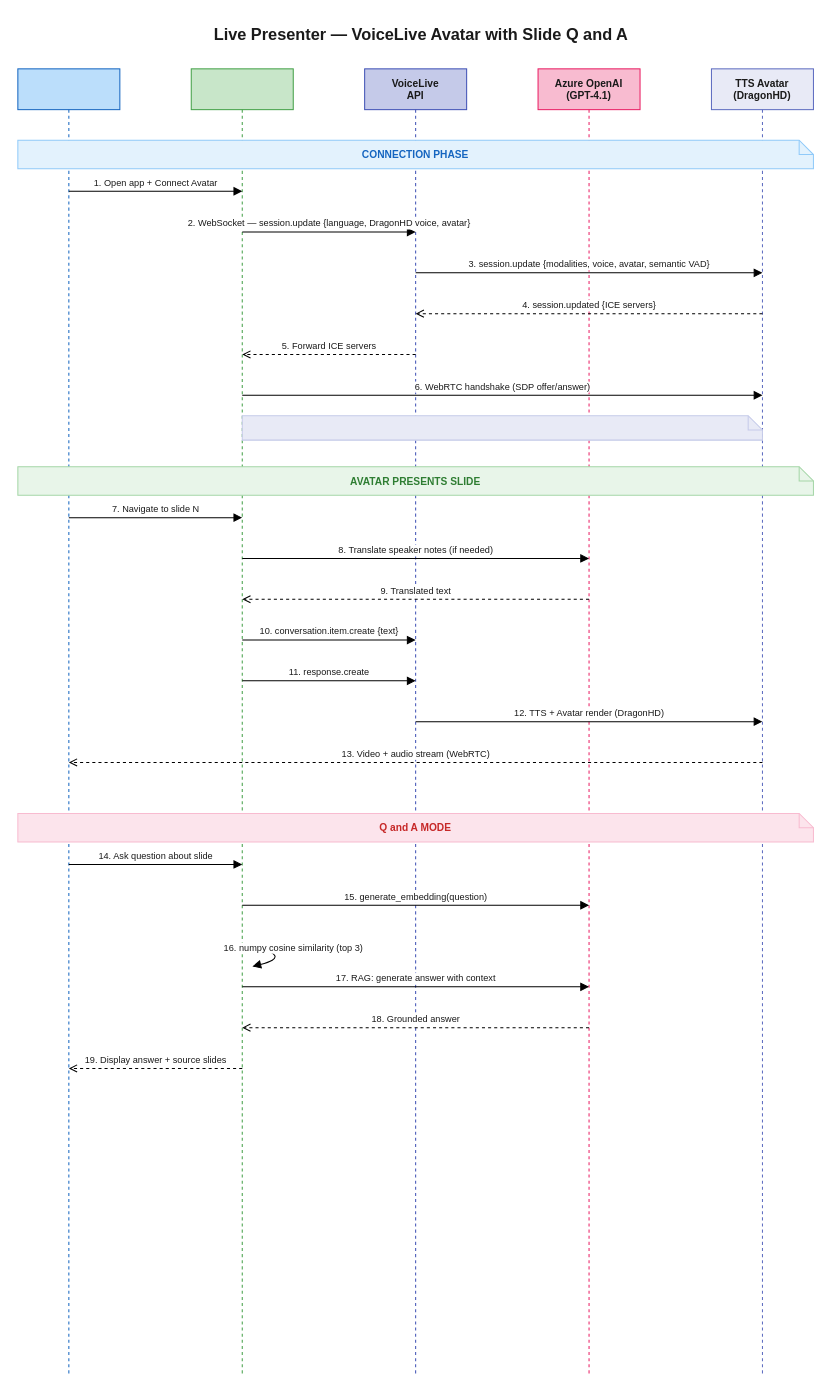
Image size: 831x1392. Some labels were removed from this diagram. Each missing label, with the box of its shape:
User: (17, 68, 120, 1374)
Web App (FastAPI): (190, 68, 293, 1374)
WebRTC connected: (241, 415, 762, 440)
